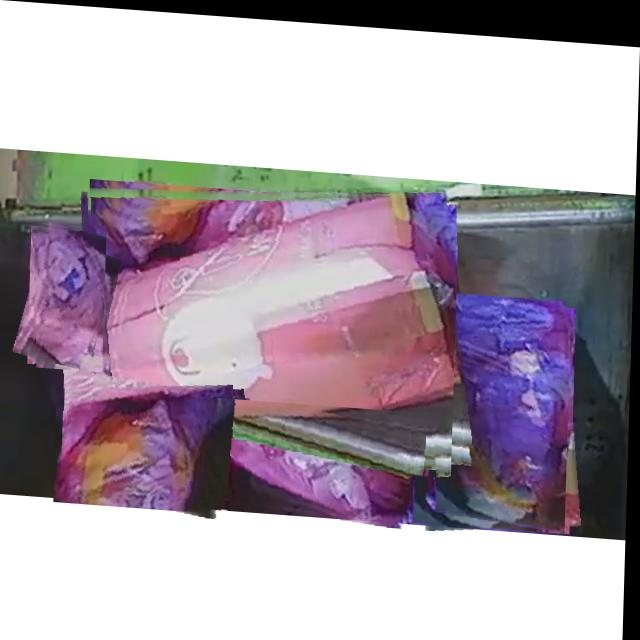other_trashbag: (90, 189, 457, 455), (413, 287, 572, 516), (202, 393, 412, 511), (58, 382, 235, 508), (37, 225, 107, 368)
